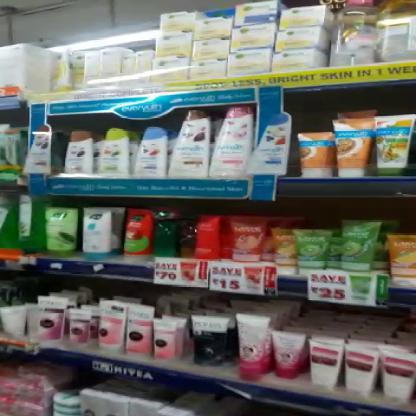Everyuth Naturals Body Lotion Nourishing Cocoa 200ml: (172, 108, 216, 180), (62, 129, 94, 177)
Everyuth Naturals Body Lotion Rejuvenating Flora 200ml: (212, 104, 254, 177)
Everyuth Naturals Body Lotion Soothing Citrus 200ml: (100, 128, 132, 178)
Everyuth Naturals Body Lotion Sun Care Berries SPF 15 200ml: (138, 127, 169, 180)
